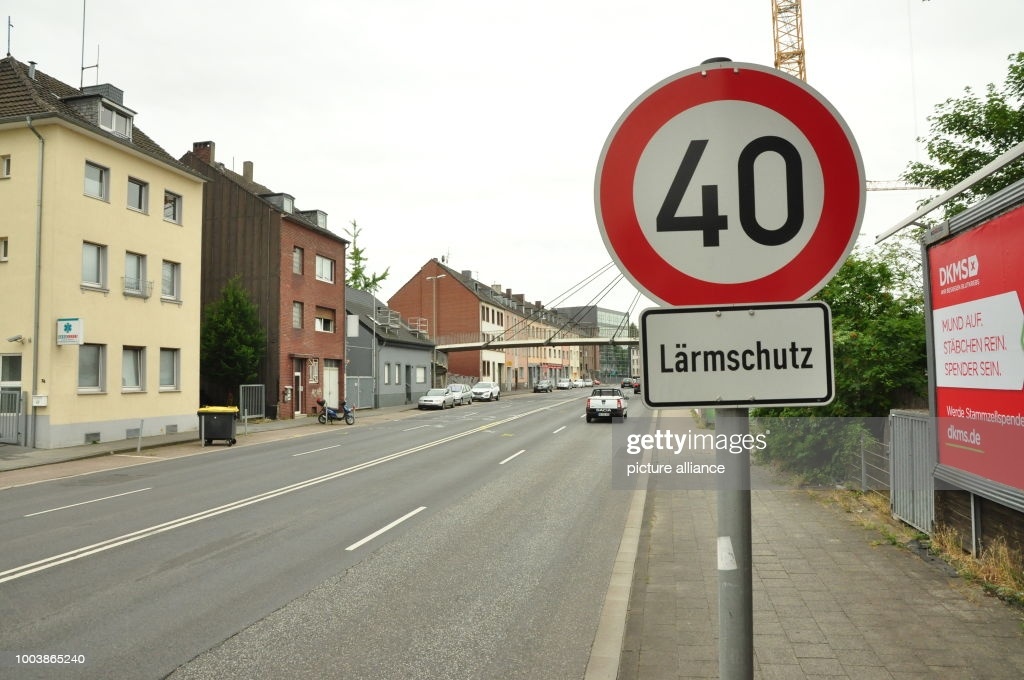40 Km/hr: (601, 69, 861, 303)
